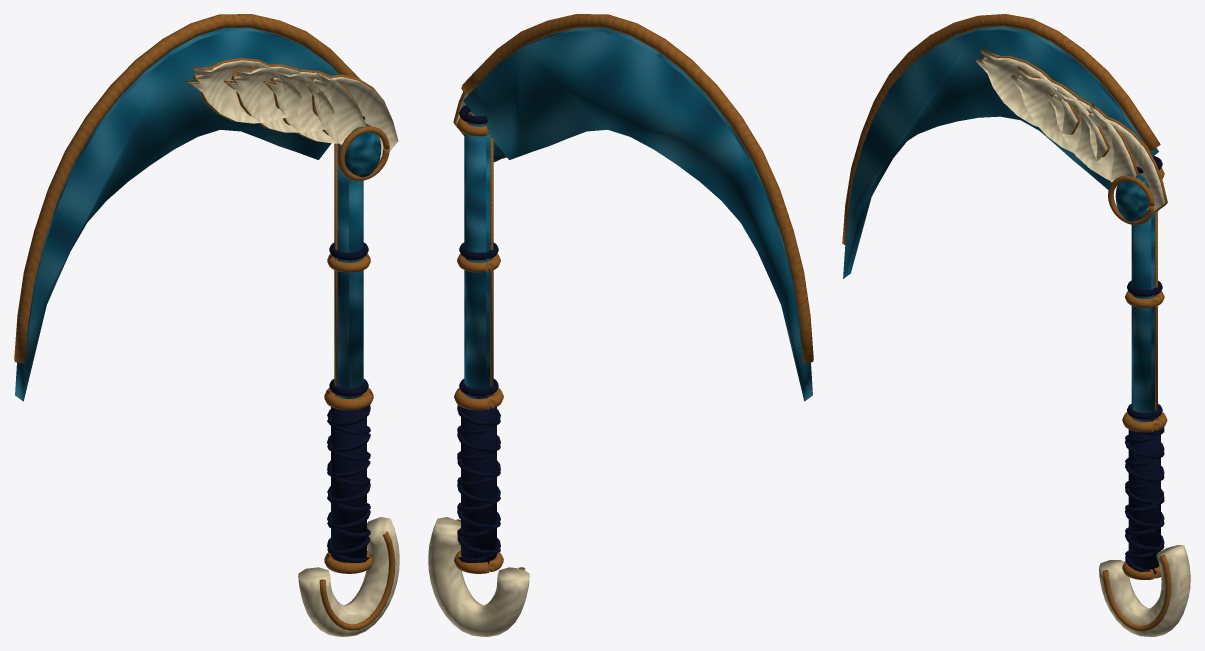
The picture shows the model from 3 angles, left to right: view 1: azimuth 30°, elevation 25°; view 2: azimuth 150°, elevation 25°; view 3: azimuth 330°, elevation 25°; orthographic projection. The views are drawn at different scales.
Visible parts, largest first — view 1: Crescent_water_glass_edge, Aged_gold_crescent_spine, Reservoir_shaft, Hooked_shell_pommel, Grip_core, Blade_scalloped_nacre_3, Blade_scalloped_nacre_2, Blade_scalloped_nacre_1, Blade_scalloped_nacre_0, Cross_woven_cord, Cross_woven_cord.001, Blade_guard_heart (+5 smaller); view 2: Crescent_water_glass_edge, Aged_gold_crescent_spine, Reservoir_shaft, Hooked_shell_pommel, Grip_core, Cross_woven_cord.001, Cross_woven_cord, Shaft_gold_spline.001, Grip_collar.001, Grip_collar; view 3: Crescent_water_glass_edge, Aged_gold_crescent_spine, Reservoir_shaft, Hooked_shell_pommel, Grip_core, Blade_scalloped_nacre_3, Blade_scalloped_nacre_2, Blade_scalloped_nacre_0, Blade_scalloped_nacre_1, Cross_woven_cord.001, Cross_woven_cord, Blade_guard_heart (+4 smaller).
Part boxes in pixels (<box>): Crescent_water_glass_edge: <box>15,27,339,401</box>; Aged_gold_crescent_spine: <box>14,14,360,363</box>; Reservoir_shaft: <box>334,144,363,398</box>; Hooked_shell_pommel: <box>298,517,399,636</box>; Grip_core: <box>331,407,366,562</box>; Blade_scalloped_nacre_3: <box>188,60,301,123</box>; Blade_scalloped_nacre_2: <box>226,66,334,132</box>; Blade_scalloped_nacre_1: <box>265,72,366,143</box>; Blade_scalloped_nacre_0: <box>306,72,398,155</box>; Cross_woven_cord: <box>327,405,370,562</box>; Cross_woven_cord.001: <box>327,406,370,554</box>; Blade_guard_heart: <box>344,123,381,177</box>; Crescent_water_glass_edge: <box>463,27,812,401</box>; Aged_gold_crescent_spine: <box>461,14,813,363</box>; Reservoir_shaft: <box>464,122,493,398</box>; Hooked_shell_pommel: <box>428,517,529,636</box>; Grip_core: <box>461,407,496,564</box>; Cross_woven_cord.001: <box>457,404,500,562</box>; Cross_woven_cord: <box>457,406,500,554</box>; Shaft_gold_spline.001: <box>490,136,493,396</box>; Grip_collar.001: <box>454,388,503,410</box>; Grip_collar: <box>454,550,503,573</box>; Crescent_water_glass_edge: <box>843,26,1158,278</box>; Aged_gold_crescent_spine: <box>842,14,1160,244</box>; Reservoir_shaft: <box>1131,212,1154,421</box>; Hooked_shell_pommel: <box>1099,545,1190,636</box>; Grip_core: <box>1128,429,1160,569</box>; Blade_scalloped_nacre_3: <box>976,50,1077,135</box>; Blade_scalloped_nacre_2: <box>1010,68,1107,161</box>; Blade_scalloped_nacre_0: <box>1081,106,1165,211</box>; Blade_scalloped_nacre_1: <box>1045,88,1136,181</box>; Cross_woven_cord.001: <box>1125,427,1164,558</box>; Cross_woven_cord: <box>1125,430,1164,574</box>; Blade_guard_heart: <box>1115,174,1149,221</box>.
Size of the model in its own units: 0.6626 by 1.08 by 0.0974.
4 materials, 4 textured.
